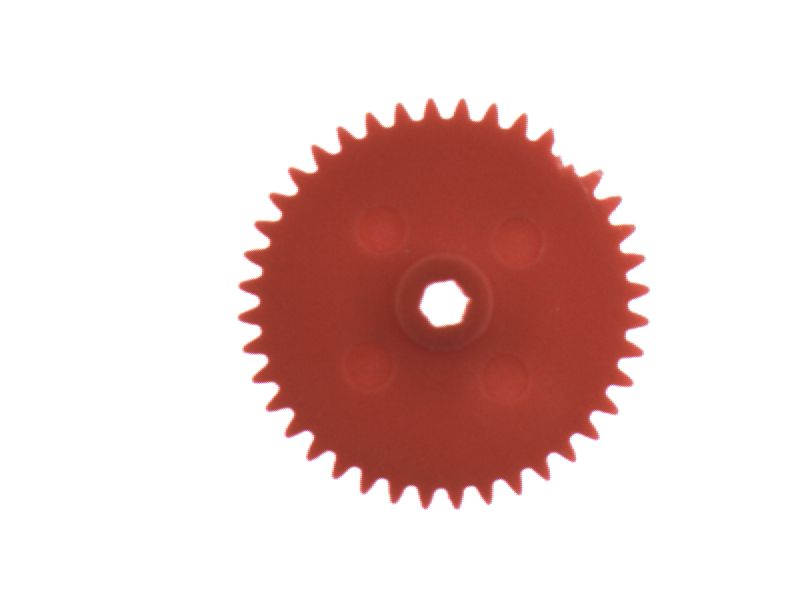defect_lack: (543, 130, 606, 180)
